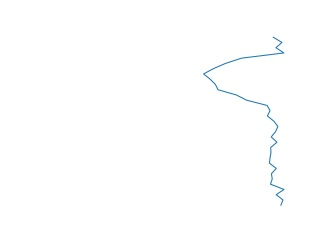distalBar: (197, 35, 293, 206)
